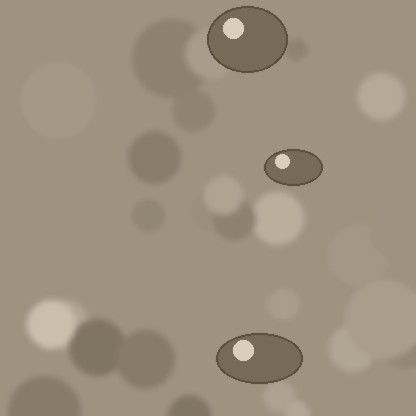gota: (207, 8, 287, 78), (216, 335, 302, 387), (264, 150, 322, 188)
